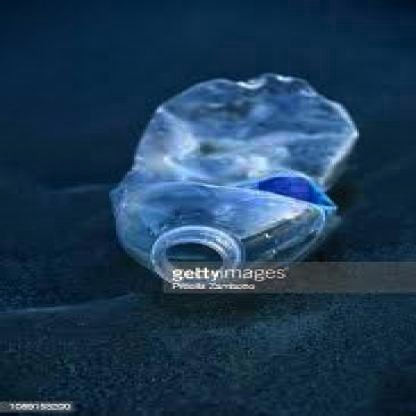pbottle: (95, 65, 354, 295)
